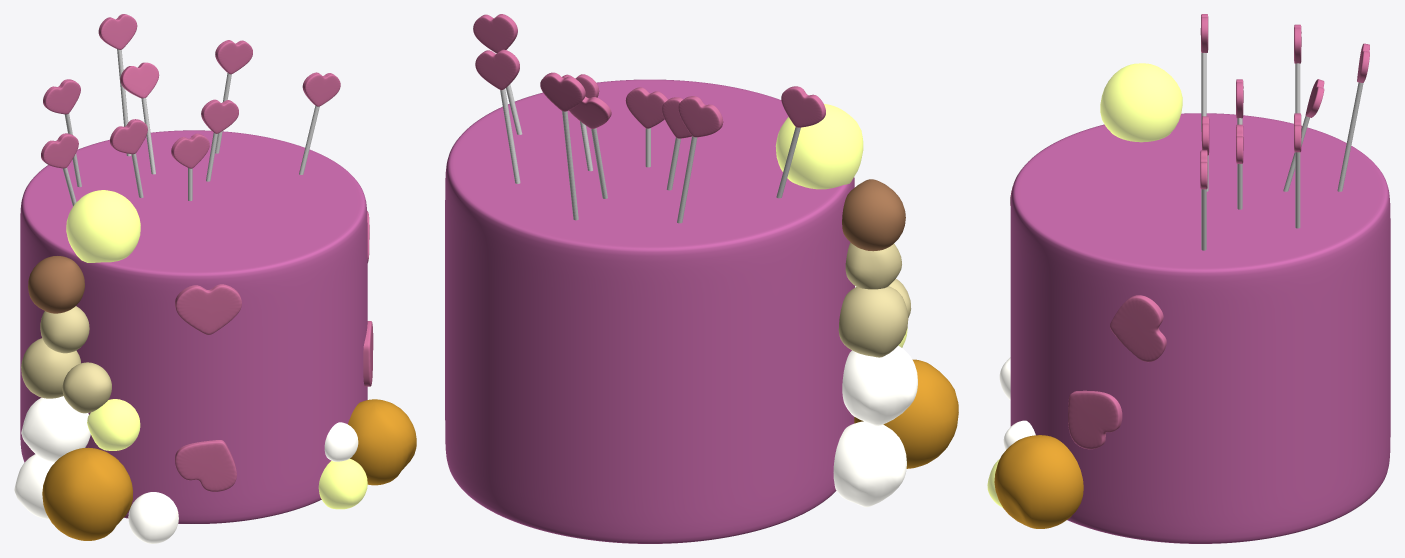
File: Cake_Layer_1_Pink_Topper1_Hearts_NoDrip.glb
3 views of the same model, side by side, from view 1: azimuth 30°, elevation 25°; view 2: azimuth 150°, elevation 25°; view 3: azimuth 270°, elevation 25° (orthographic). The views are drawn at different scales.
Parts seen in each view (by area): view 1: Circle.002, Sphere, Sphere.015, Sphere.026, Sphere.002, Sphere.006, Star.003, Star.002, Sphere.005, Sphere.003, Sphere.001, Sphere.025 (+14 smaller); view 2: Circle.002, Sphere.015, Sphere.013, Sphere.002, Sphere, Sphere.005, Sphere.006, Sphere.010, Star.005, Star.006, Star.009, Star.014 (+5 smaller); view 3: Circle.002, Sphere.026, Sphere.015, Star.001, Star.004, Cylinder.049, Sphere.027.
Boxes of the visible parts, x1=… form: Circle.002: x1=20, y1=130, x2=367, y2=523; Sphere: x1=42, y1=447, x2=132, y2=540; Sphere.015: x1=66, y1=190, x2=140, y2=262; Sphere.026: x1=348, y1=399, x2=416, y2=485; Sphere.002: x1=21, y1=396, x2=90, y2=462; Sphere.006: x1=28, y1=256, x2=84, y2=313; Star.003: x1=175, y1=284, x2=241, y2=334; Star.002: x1=175, y1=440, x2=236, y2=491; Sphere.005: x1=21, y1=338, x2=80, y2=398; Sphere.003: x1=87, y1=399, x2=140, y2=450; Sphere.001: x1=128, y1=492, x2=178, y2=543; Sphere.025: x1=318, y1=458, x2=367, y2=509; Circle.002: x1=445, y1=79, x2=854, y2=543; Sphere.015: x1=775, y1=104, x2=863, y2=189; Sphere.013: x1=833, y1=421, x2=906, y2=507; Sphere.002: x1=842, y1=345, x2=917, y2=425; Sphere: x1=854, y1=359, x2=958, y2=468; Sphere.005: x1=838, y1=286, x2=908, y2=357; Sphere.006: x1=842, y1=179, x2=905, y2=251; Sphere.010: x1=845, y1=242, x2=901, y2=289; Star.005: x1=781, y1=86, x2=825, y2=127; Star.006: x1=678, y1=96, x2=723, y2=137; Star.009: x1=475, y1=49, x2=519, y2=90; Star.014: x1=473, y1=14, x2=517, y2=53; Circle.002: x1=1010, y1=113, x2=1390, y2=543; Sphere.026: x1=994, y1=435, x2=1083, y2=528; Sphere.015: x1=1100, y1=63, x2=1182, y2=142; Star.001: x1=1110, y1=295, x2=1166, y2=362; Star.004: x1=1068, y1=390, x2=1122, y2=449; Cylinder.049: x1=1337, y1=82, x2=1363, y2=191; Sphere.027: x1=1003, y1=420, x2=1035, y2=449.
Size of the model in its own units: 0.1763 by 0.1867 by 0.1591.
